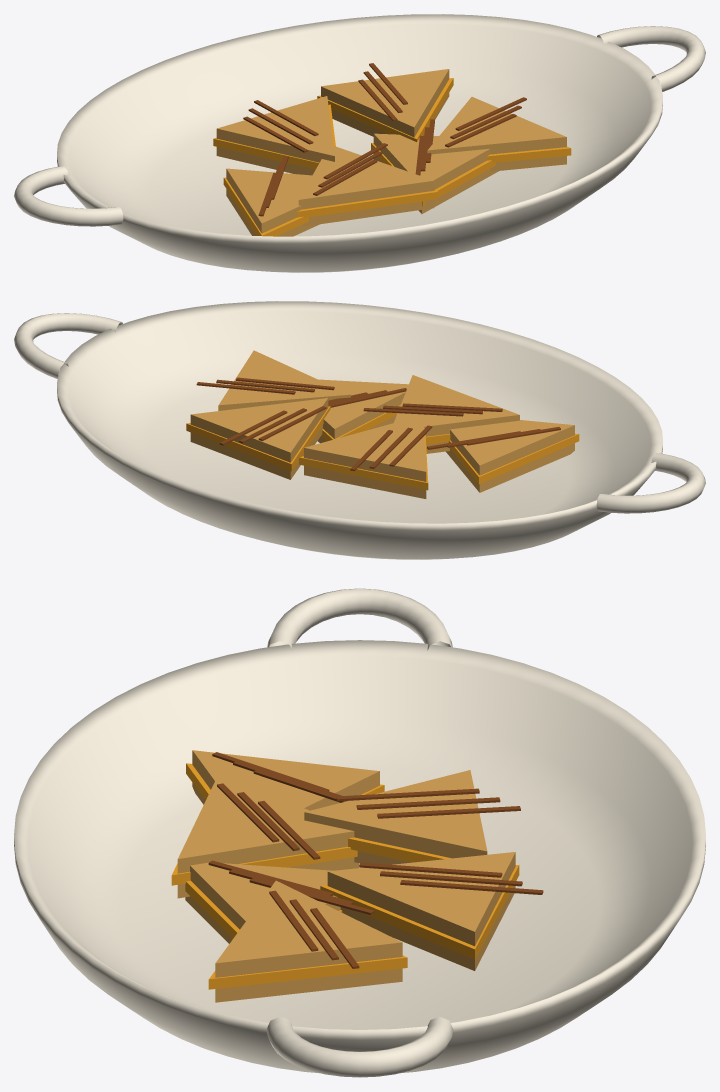
File: meal_grilled_cheese_serving.glb
The picture shows the model from 3 angles, top to bottom: view 1: azimuth 30°, elevation 25°; view 2: azimuth 150°, elevation 25°; view 3: azimuth 270°, elevation 25°; orthographic projection. The views are drawn at different scales.
Visible parts, largest first — view 1: DishGeometry, FoodGeometry; view 2: DishGeometry, FoodGeometry; view 3: DishGeometry, FoodGeometry.
Boxes of the visible parts, x1=… form: DishGeometry: x1=14, y1=14, x2=705, y2=272; FoodGeometry: x1=213, y1=63, x2=571, y2=236; DishGeometry: x1=14, y1=301, x2=705, y2=559; FoodGeometry: x1=186, y1=350, x2=579, y2=498; DishGeometry: x1=14, y1=588, x2=705, y2=1077; FoodGeometry: x1=171, y1=750, x2=543, y2=1002.
Bounding box in the file's own units: 0.492 × 0.052 × 0.303.
